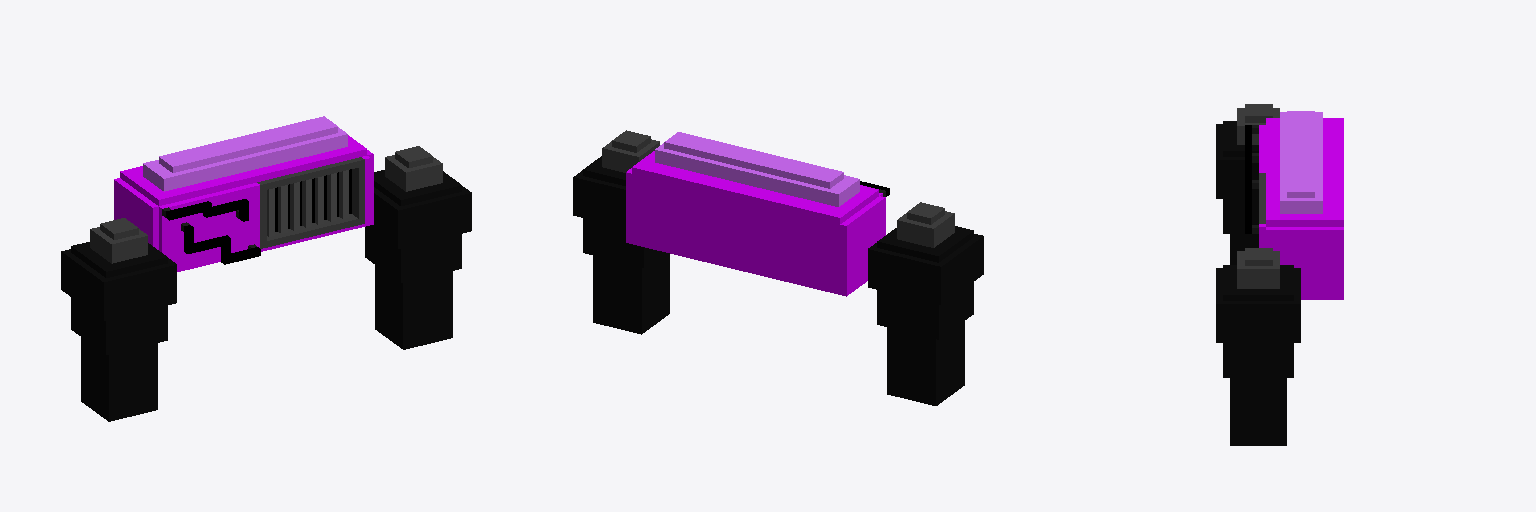
3 views of the same model, side by side, from view 1: azimuth 30°, elevation 25°; view 2: azimuth 150°, elevation 25°; view 3: azimuth 270°, elevation 25° (orthographic).
Visible parts, largest first — view 1: object 1; view 2: object 1; view 3: object 1.
Boxes of the visible parts, x1=… form: object 1: x1=61, y1=116, x2=471, y2=421; object 1: x1=573, y1=130, x2=983, y2=405; object 1: x1=1216, y1=104, x2=1343, y2=445.
Bounding box in the file's own units: 6 × 3.3 × 1.8.
1 materials, 1 textured.